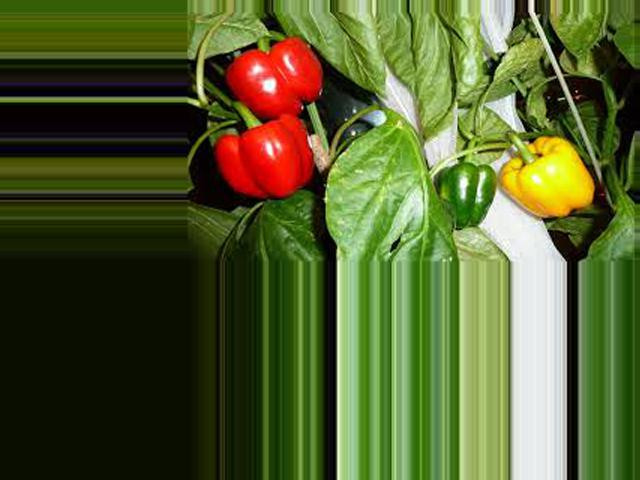bell_pepper: (496, 132, 602, 224)
